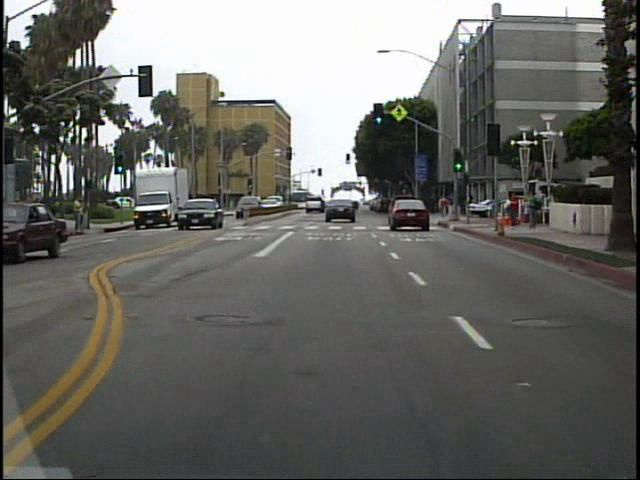person: (71, 194, 89, 238), (437, 195, 452, 219)
